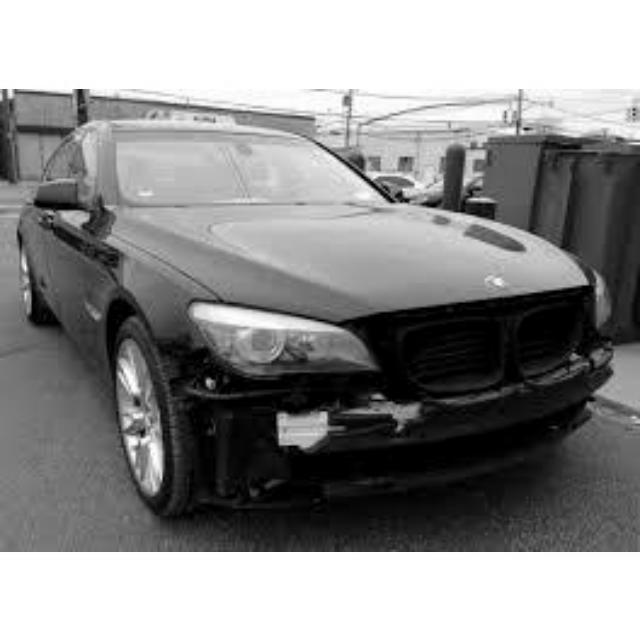front-bumper-dent: (190, 379, 471, 519)
